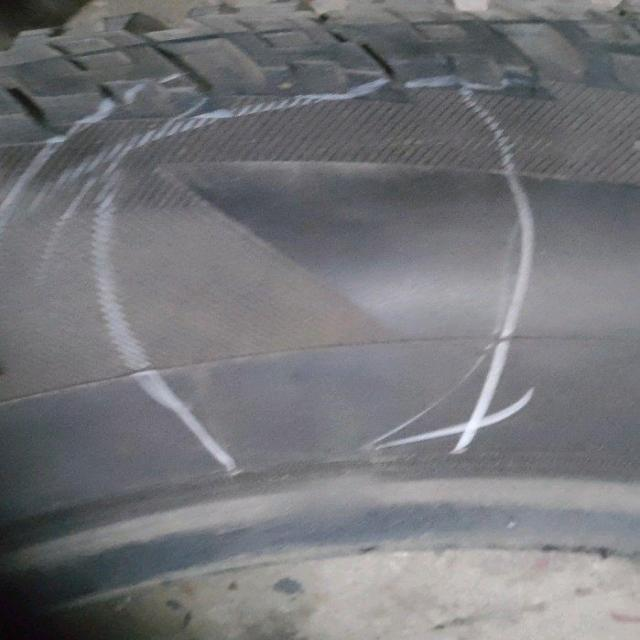Flat spots: (0, 189, 640, 441)
